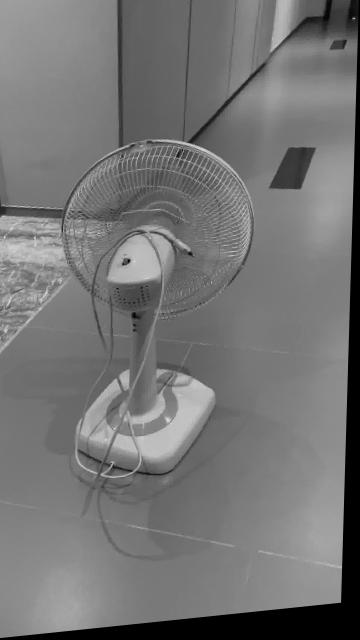Fan: (63, 143, 257, 480)
